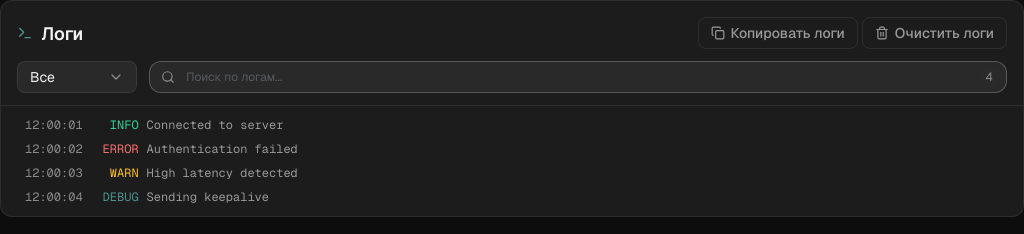
Test: LogPanel › shows no-matching message when filter yields no results
Type "zzz_no_match_zzz" into the field with placeholder "Поиск по логам..." at (578, 77), box top-left (149, 61), bottom-right (1007, 93)
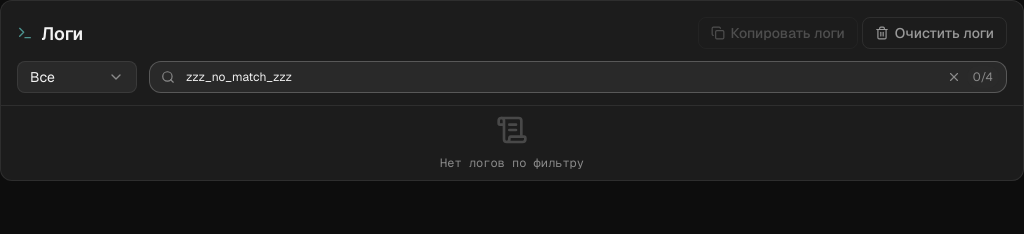
Check: the text "Нет логов по фильтру" is shown, box top-left (440, 154), bottom-right (584, 172)
